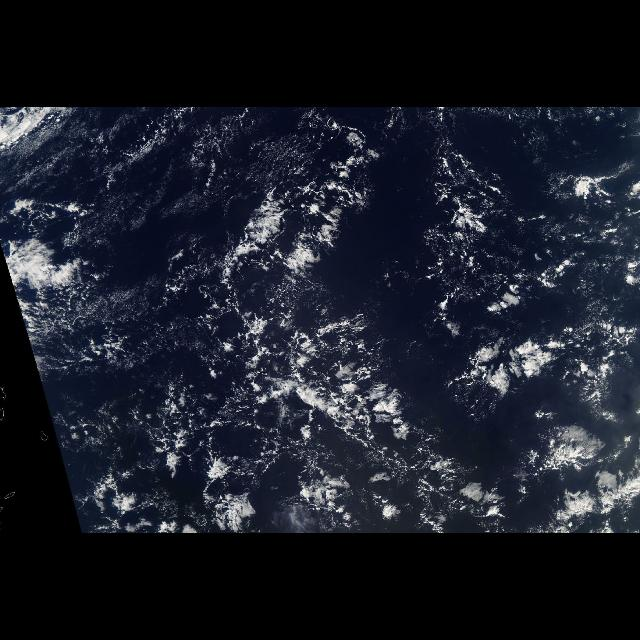Gravel: (39, 196, 395, 526)
